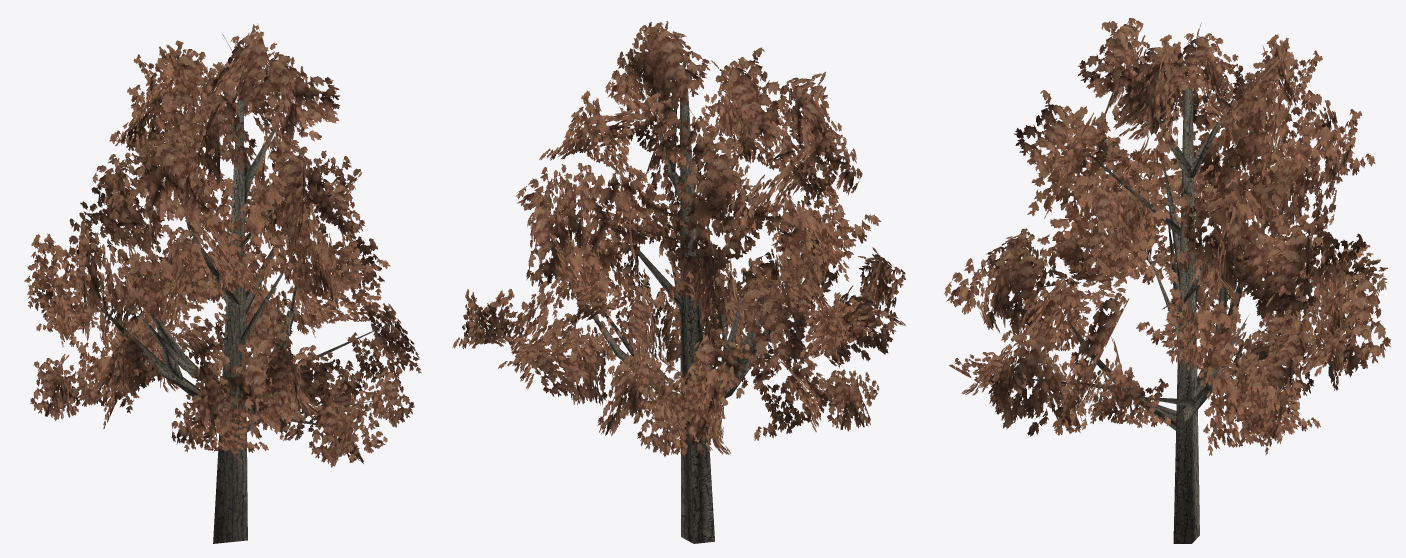
The model's file is Vegetation_Tree02b_lod1.glb.
The picture shows the model from 3 angles, left to right: view 1: azimuth 30°, elevation 25°; view 2: azimuth 150°, elevation 25°; view 3: azimuth 270°, elevation 25°; orthographic projection. The views are drawn at different scales.
Visible parts, largest first — view 1: zw_tree02b_lod1_0; view 2: zw_tree02b_lod1_0; view 3: zw_tree02b_lod1_0.
Part boxes in pixels (x1=…): zw_tree02b_lod1_0: x1=24, y1=23, x2=421, y2=543; zw_tree02b_lod1_0: x1=452, y1=21, x2=905, y2=543; zw_tree02b_lod1_0: x1=944, y1=18, x2=1390, y2=543.
Size of the model in its own units: 19.52 by 24.16 by 18.77.
2 materials, 2 textured.
